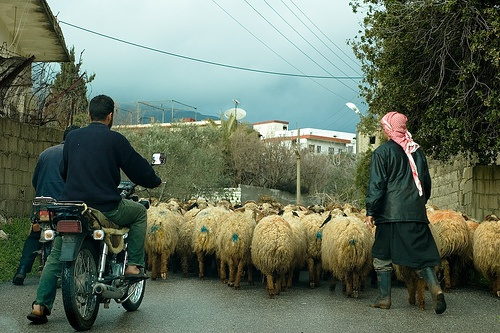non-vehicle: (48, 152, 167, 315), (31, 196, 57, 274)
